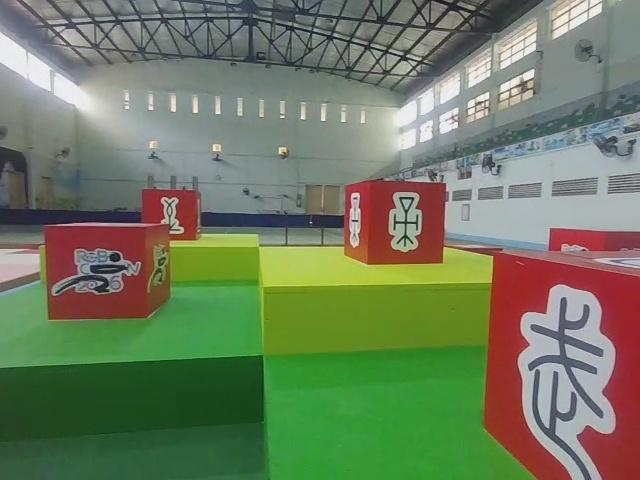R1: (44, 221, 171, 319)
R2 Fake: (480, 249, 640, 480)
R2 Real: (346, 178, 446, 266), (139, 186, 203, 245)
